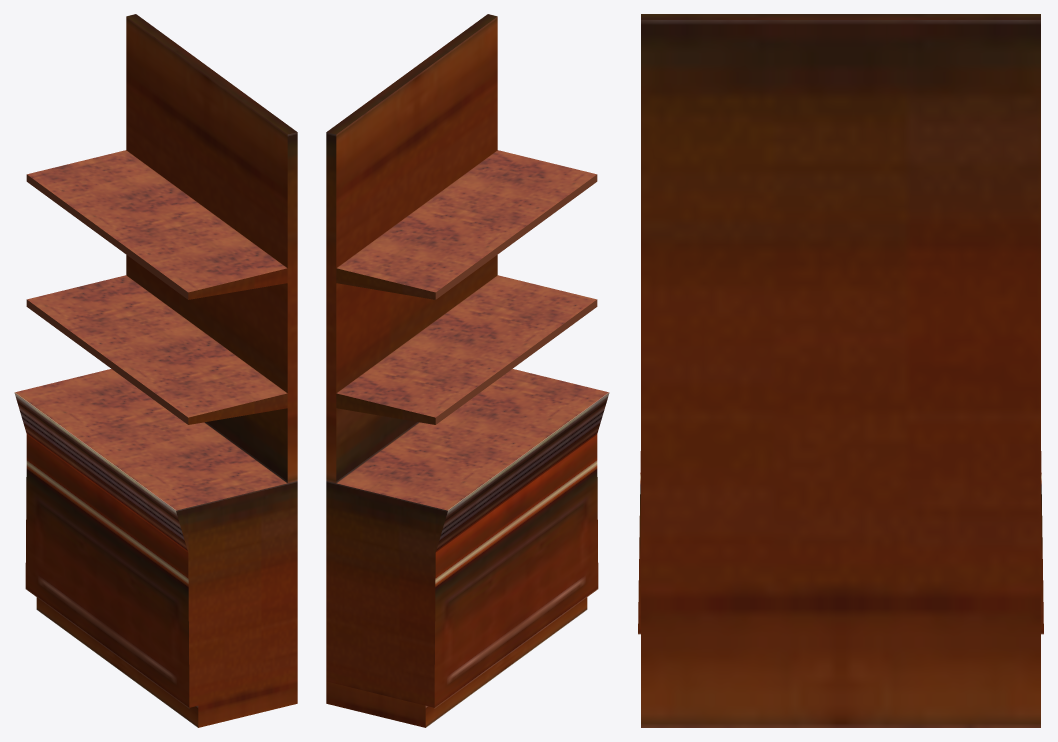
The model's file is BarLiquorshelf01.obj.
3 views of the same model, side by side, from view 1: azimuth 30°, elevation 25°; view 2: azimuth 150°, elevation 25°; view 3: azimuth 270°, elevation 25° (orthographic). The views are drawn at different scales.
Visible parts, largest first — view 1: BarLiqourshelf01; view 2: BarLiqourshelf01; view 3: BarLiqourshelf01.
Boxes of the visible parts, x1,y1,x2,y2 form: BarLiqourshelf01: [14, 14, 297, 727]; BarLiqourshelf01: [326, 14, 609, 727]; BarLiqourshelf01: [638, 14, 1043, 727].
Bounding box in the file's own units: 1.09 × 4.88 × 2.54.
